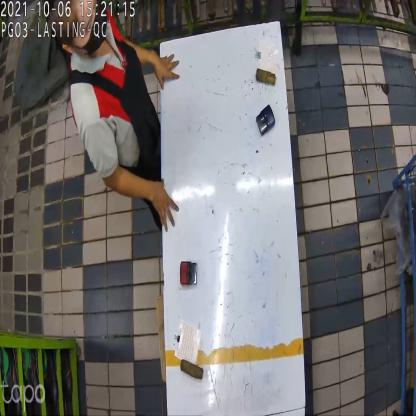stamp: (257, 103, 275, 136), (179, 258, 197, 287)
